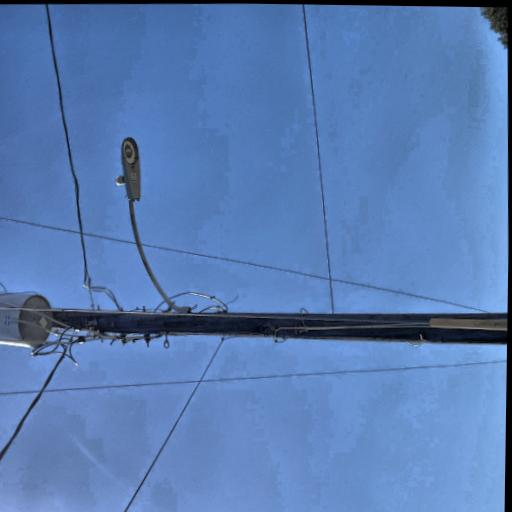pole: (39, 3, 131, 512)
street light: (88, 260, 256, 354)
transformer: (58, 85, 119, 199)
